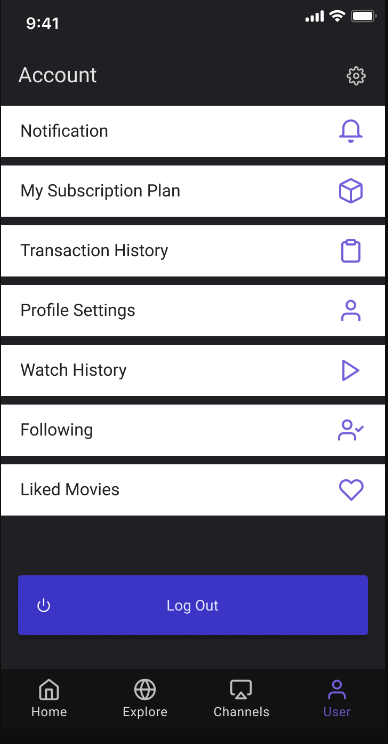IconButton: (343, 61, 369, 89)
